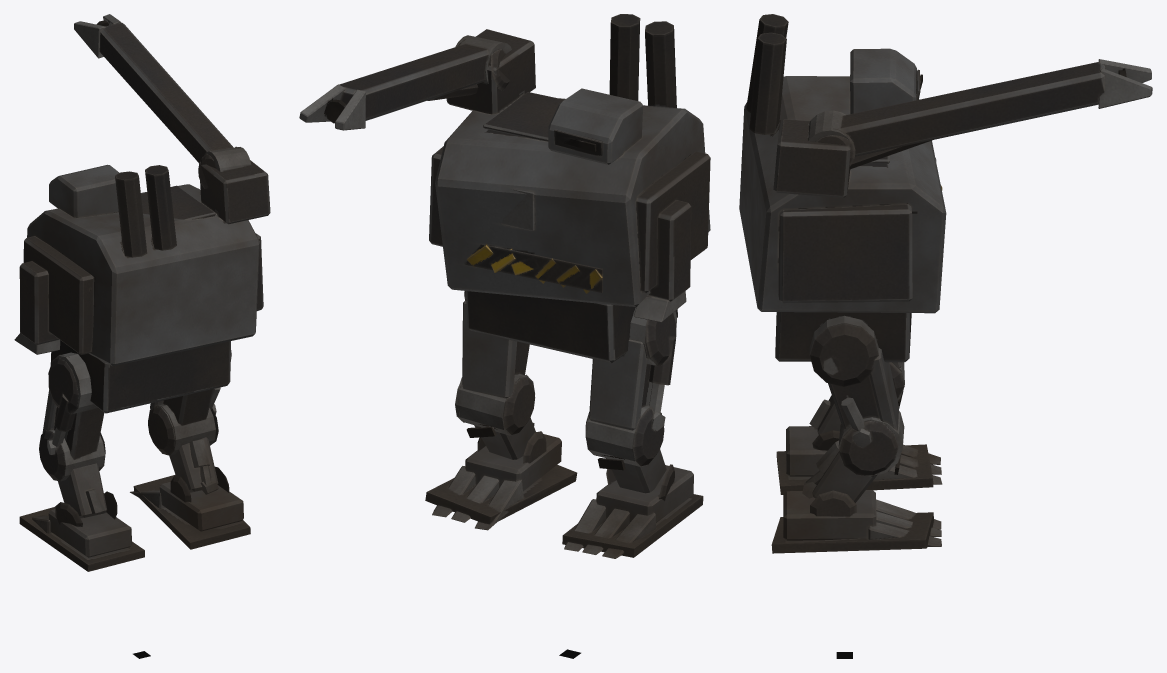
File: chs_taskmaster_wreck.fbx
3 views of the same model, side by side, from view 1: azimuth 30°, elevation 25°; view 2: azimuth 150°, elevation 25°; view 3: azimuth 270°, elevation 25° (orthographic). The views are drawn at different scales.
Parts seen in each view (by area): view 1: torso_bar, nano_bar, base_bar, thighL_bar, footR_bar, footL_bar, thighR_bar, shinL_bar, shinR_bar; view 2: torso_bar, thighL_bar, nano_bar, base_bar, footR_bar, footL_bar, thighR_bar, shinL_bar, shinR_bar; view 3: torso_bar, nano_bar, thighR_bar, footR_bar, footL_bar, base_bar, shinR_bar, shinL_bar.
Boxes of the visible parts, x1,y1,x2,y2 form: torso_bar: [14, 160, 270, 366]; nano_bar: [74, 14, 251, 188]; base_bar: [50, 340, 230, 413]; thighL_bar: [39, 352, 105, 481]; footR_bar: [130, 474, 250, 549]; footL_bar: [19, 507, 144, 571]; thighR_bar: [148, 350, 231, 455]; shinL_bar: [55, 463, 117, 526]; shinR_bar: [169, 437, 229, 502]; torso_bar: [429, 14, 710, 322]; thighL_bar: [585, 307, 676, 466]; nano_bar: [299, 35, 511, 130]; base_bar: [466, 291, 677, 363]; footR_bar: [425, 432, 577, 530]; footL_bar: [562, 465, 703, 558]; thighR_bar: [455, 291, 535, 435]; shinL_bar: [597, 449, 674, 500]; shinR_bar: [466, 417, 546, 463]; torso_bar: [739, 14, 946, 313]; nano_bar: [808, 59, 1152, 169]; thighR_bar: [809, 315, 904, 476]; footR_bar: [771, 490, 941, 553]; footL_bar: [776, 426, 942, 494]; base_bar: [775, 312, 911, 362]; shinR_bar: [802, 440, 900, 516]; shinL_bar: [809, 389, 903, 450].
Size of the model in its own units: 346 by 849 by 501.
Materials: 2 (2 with a texture image).
